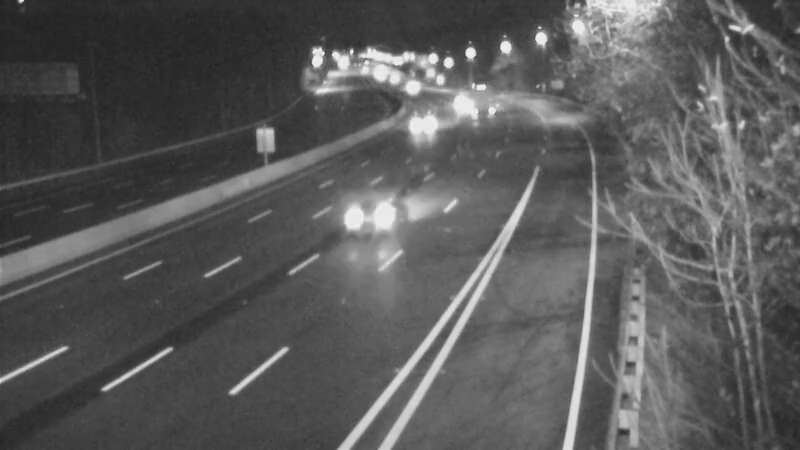vehicle: (328, 167, 408, 247), (369, 54, 419, 104), (384, 65, 434, 115), (449, 79, 499, 129), (428, 79, 478, 129), (396, 102, 446, 152)
